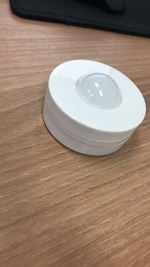bulb: (41, 58, 147, 156)
